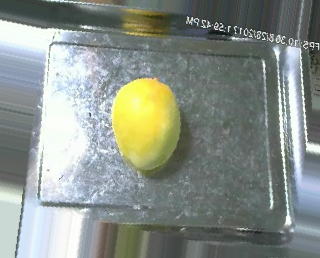Mango: (109, 66, 184, 175)
